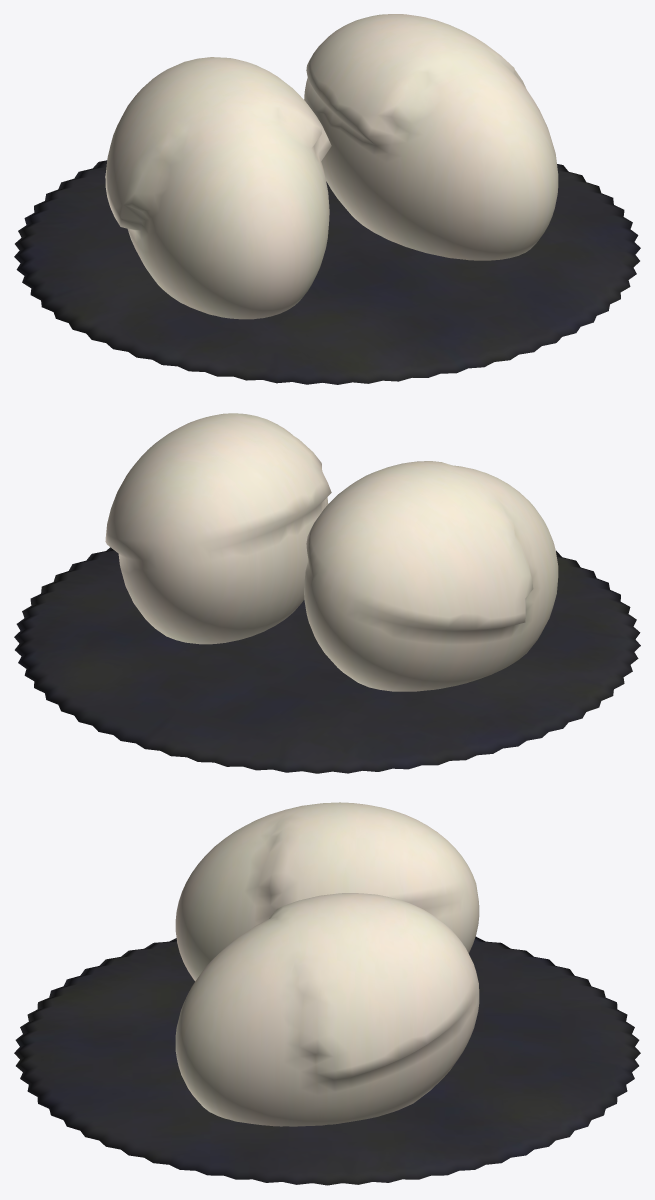
File: butter-chicken-bao-balanced.glb
3 views of the same model, one above another, from view 1: azimuth 30°, elevation 25°; view 2: azimuth 150°, elevation 25°; view 3: azimuth 270°, elevation 25° (orthographic).
Parts seen in each view (by area): view 1: Mesh_Steamed_Gua_Bao_Buns, Mesh_Charcoal_Slate_Platter; view 2: Mesh_Steamed_Gua_Bao_Buns, Mesh_Charcoal_Slate_Platter; view 3: Mesh_Steamed_Gua_Bao_Buns, Mesh_Charcoal_Slate_Platter.
Boxes of the visible parts, bbox=[...] form: Mesh_Steamed_Gua_Bao_Buns: bbox=[105, 14, 558, 319]; Mesh_Charcoal_Slate_Platter: bbox=[14, 160, 640, 384]; Mesh_Steamed_Gua_Bao_Buns: bbox=[105, 413, 558, 691]; Mesh_Charcoal_Slate_Platter: bbox=[14, 547, 640, 773]; Mesh_Steamed_Gua_Bao_Buns: bbox=[175, 802, 479, 1126]; Mesh_Charcoal_Slate_Platter: bbox=[14, 936, 640, 1185].
Bounding box in the file's own units: 2 × 0.7784 × 2.
4 materials, 4 textured.
